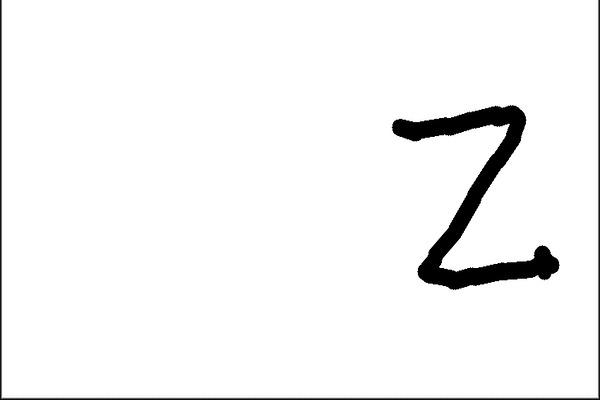Z: (383, 95, 566, 295)
